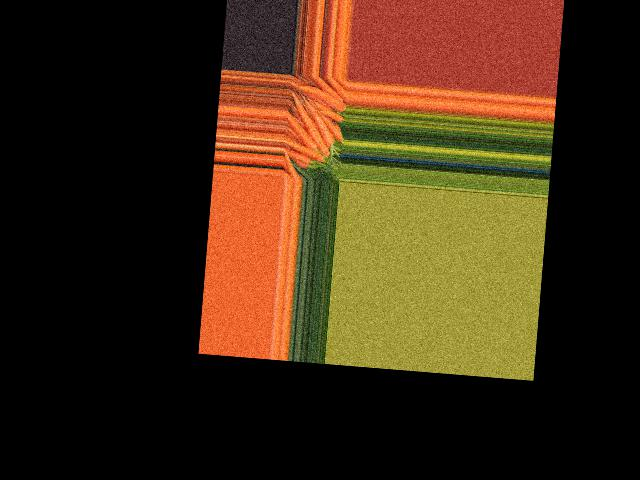carrot: (283, 111, 319, 150)
